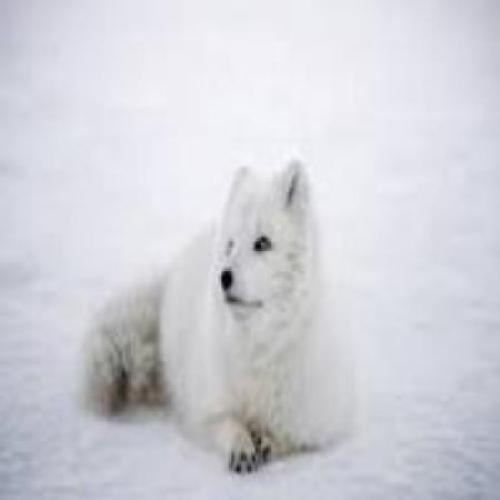arctic_fox-endangered: (75, 161, 351, 473)
